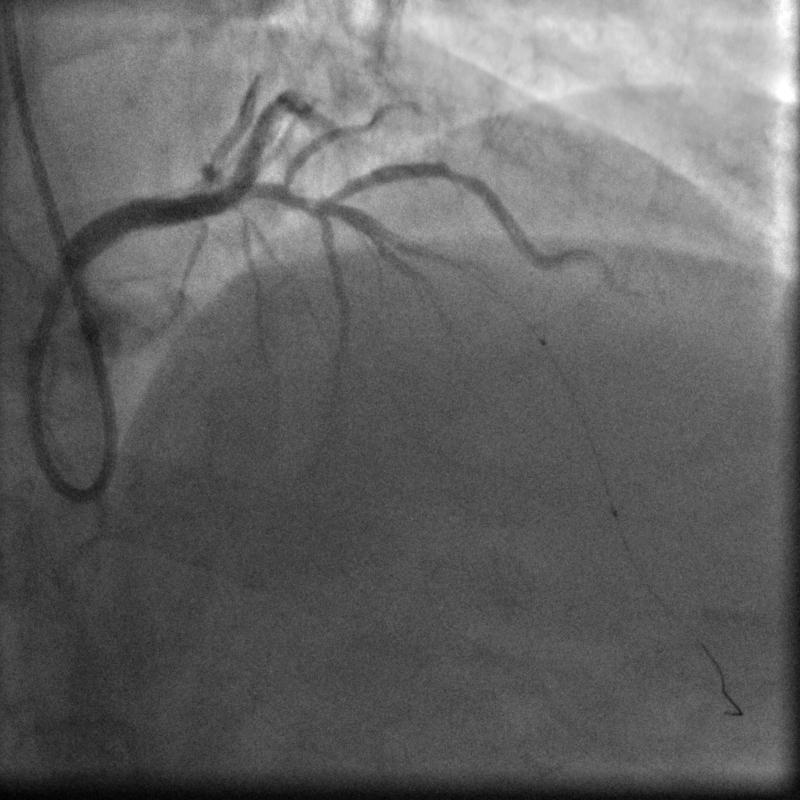Stenosis: (434, 153, 480, 196)
